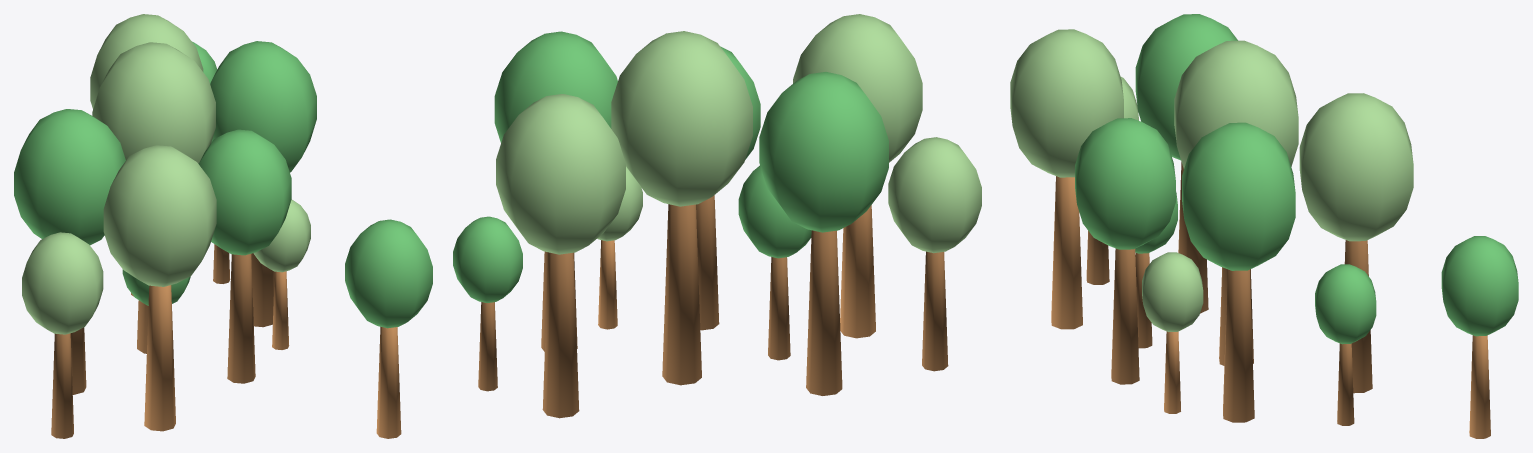
File: trees2.glb
The picture shows the model from 3 angles, left to right: view 1: azimuth 30°, elevation 25°; view 2: azimuth 150°, elevation 25°; view 3: azimuth 270°, elevation 25°; orthographic projection. The views are drawn at different scales.
Parts seen in each view (by area): view 1: Plane.021; view 2: Plane.021; view 3: Plane.021.
Part boxes in pixels (x1,y1,x2,y2): Plane.021: [14, 14, 316, 438]; Plane.021: [345, 14, 981, 438]; Plane.021: [1010, 14, 1518, 438].
Bounding box in the file's own units: 6.61 × 5.26 × 7.57.
